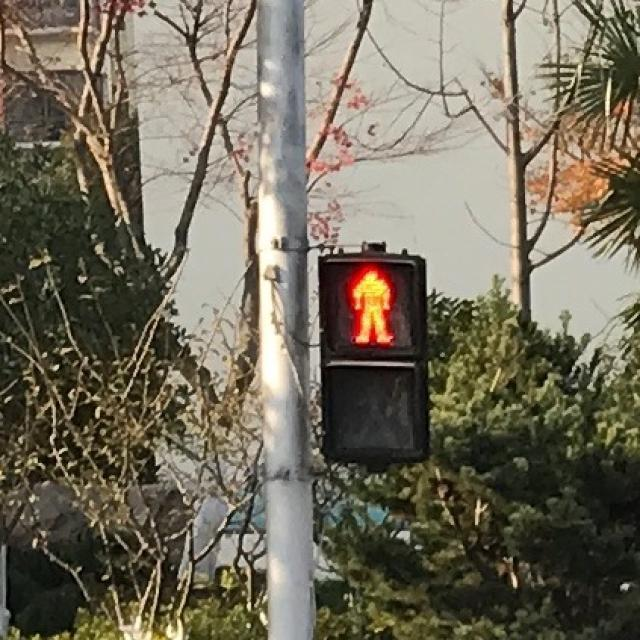red-crossing: (325, 258, 415, 352)
